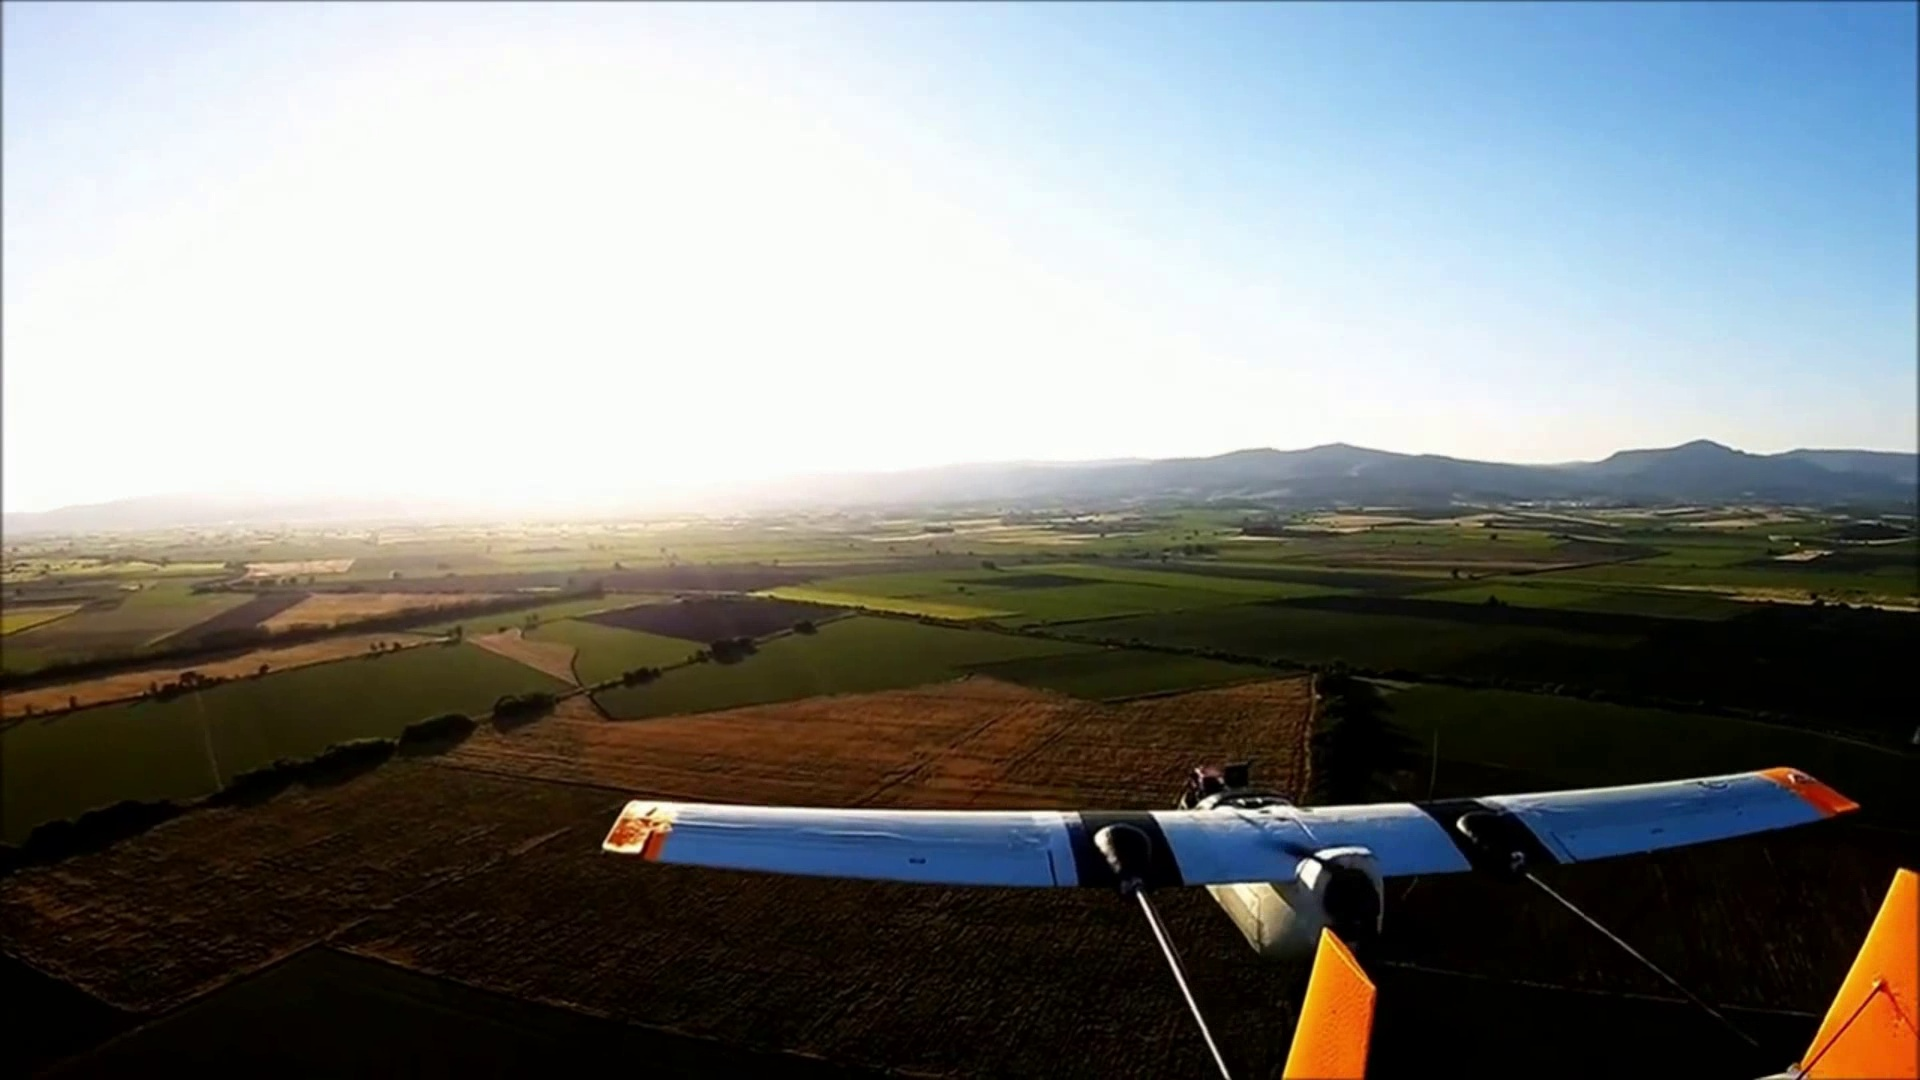airplane: (596, 758, 1883, 1018)
